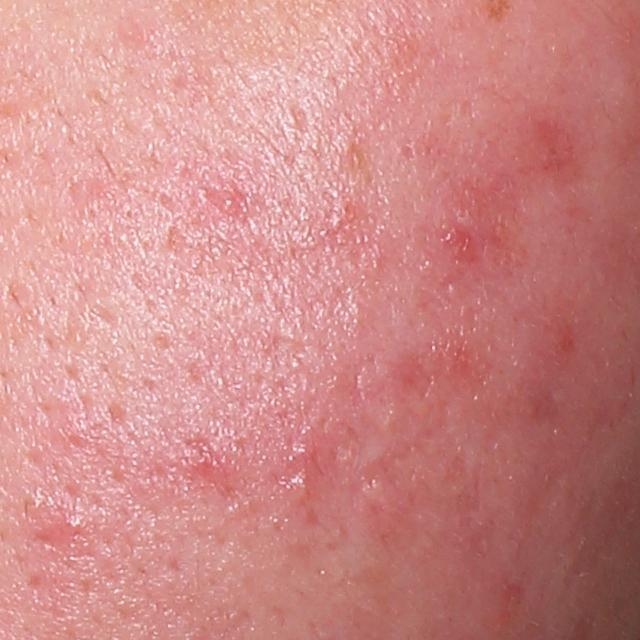papule: (42, 498, 102, 552), (211, 186, 249, 218)
